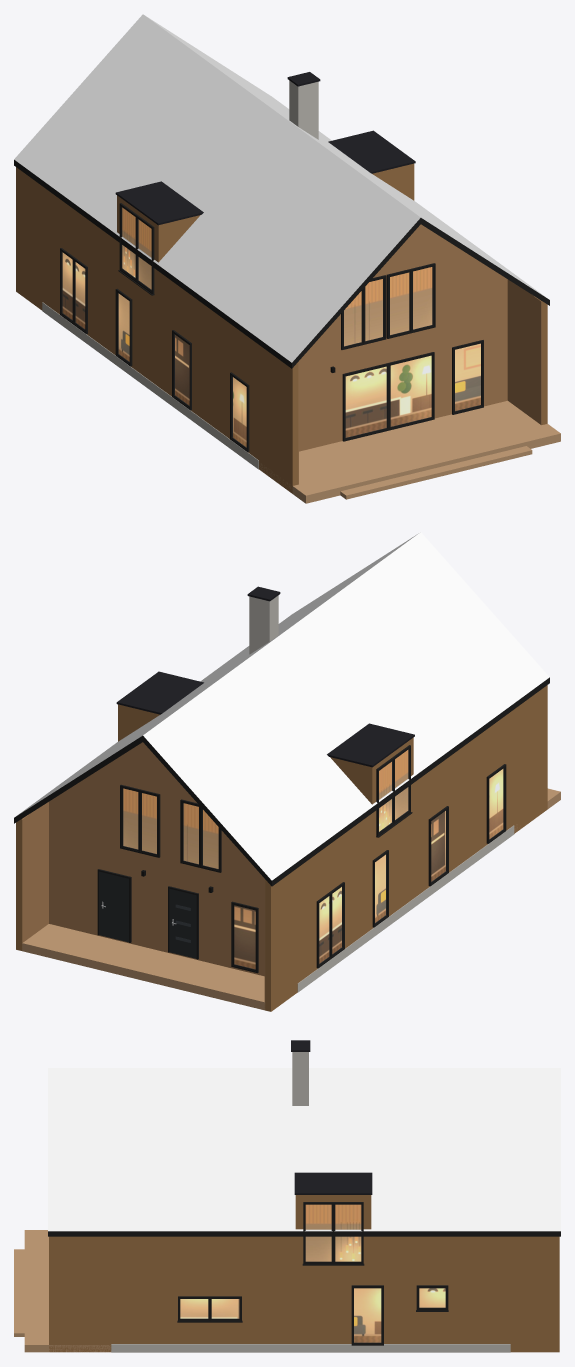
File: modi170_c0_p0_m0.glb
3 renders of one model, top to bottom at view 1: azimuth 30°, elevation 25°; view 2: azimuth 150°, elevation 25°; view 3: azimuth 270°, elevation 25°, orthographic. The views are drawn at different scales.
Parts seen in each view (by area): view 1: roof, wall, soffit, room, glass, deck, frame, metal, fascia, plinth; view 2: roof, wall, soffit, room, glass, deck, frame, metal, door, fascia, plinth; view 3: roof, wall, room, glass, plinth, deck, fascia, frame, metal.
Part boxes in pixels (left/top/right/bottom): roof: left=14, top=14, right=546, bottom=362; wall: left=16, top=163, right=547, bottom=493; soffit: left=298, top=224, right=541, bottom=484; room: left=62, top=207, right=480, bottom=447; glass: left=63, top=208, right=480, bottom=446; deck: left=259, top=400, right=560, bottom=503; frame: left=60, top=203, right=483, bottom=452; metal: left=115, top=72, right=415, bottom=225; fascia: left=14, top=160, right=549, bottom=368; plinth: left=42, top=80, right=318, bottom=469; roof: left=17, top=532, right=549, bottom=880; wall: left=16, top=685, right=547, bottom=1011; soffit: left=22, top=742, right=265, bottom=1010; room: left=123, top=750, right=503, bottom=969; glass: left=123, top=750, right=502, bottom=968; deck: left=22, top=788, right=560, bottom=1010; frame: left=97, top=745, right=506, bottom=973; metal: left=116, top=586, right=414, bottom=767; door: left=99, top=871, right=196, bottom=958; fascia: left=14, top=677, right=549, bottom=886; plinth: left=249, top=595, right=514, bottom=992; roof: left=48, top=1068, right=560, bottom=1231; wall: left=49, top=1195, right=559, bottom=1352; room: left=180, top=1204, right=445, bottom=1342; glass: left=181, top=1205, right=444, bottom=1342; plinth: left=111, top=1052, right=510, bottom=1352; deck: left=14, top=1230, right=111, bottom=1352; fascia: left=48, top=1231, right=560, bottom=1236; frame: left=177, top=1202, right=448, bottom=1345; metal: left=291, top=1040, right=372, bottom=1194.
Size of the model in its own units: 9.08 by 9.33 by 17.89.
Materials: 14 (5 with a texture image).
